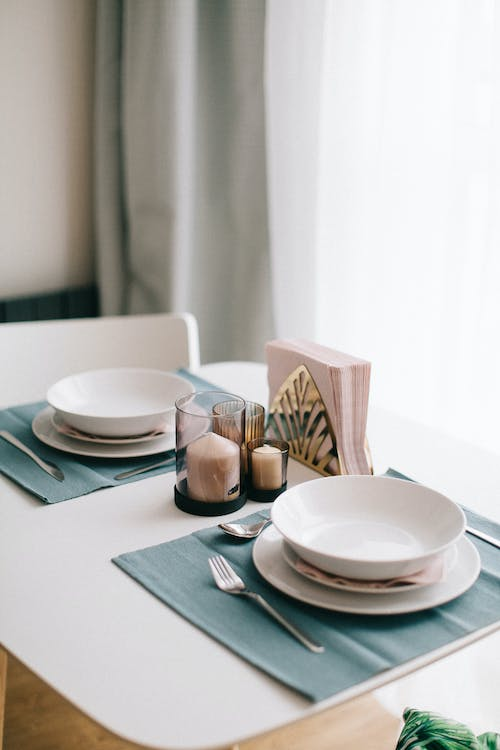knife: (0, 425, 67, 487)
